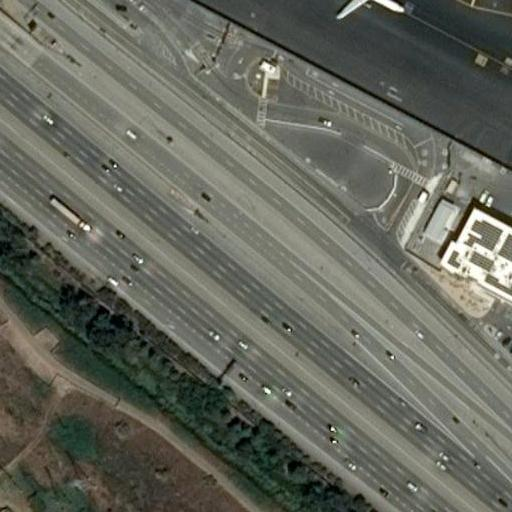Aircraft: (312, 0, 402, 22)
